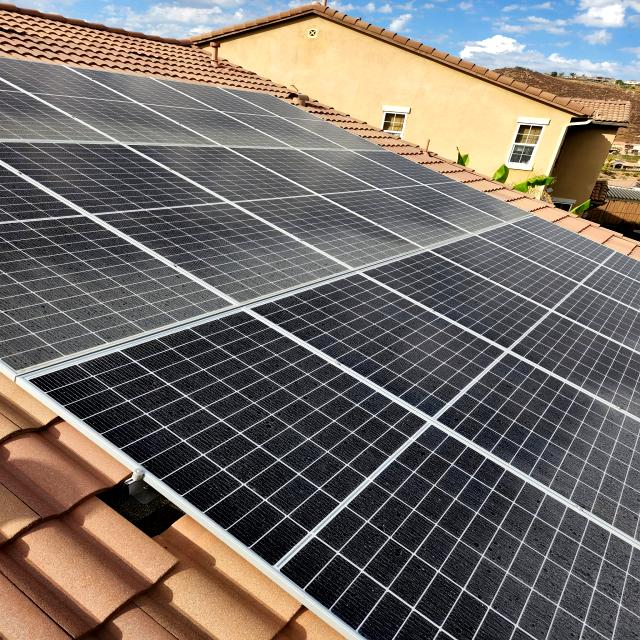dust: (378, 544, 640, 640), (348, 274, 518, 386), (0, 238, 236, 318), (197, 334, 286, 492), (508, 419, 632, 453)
